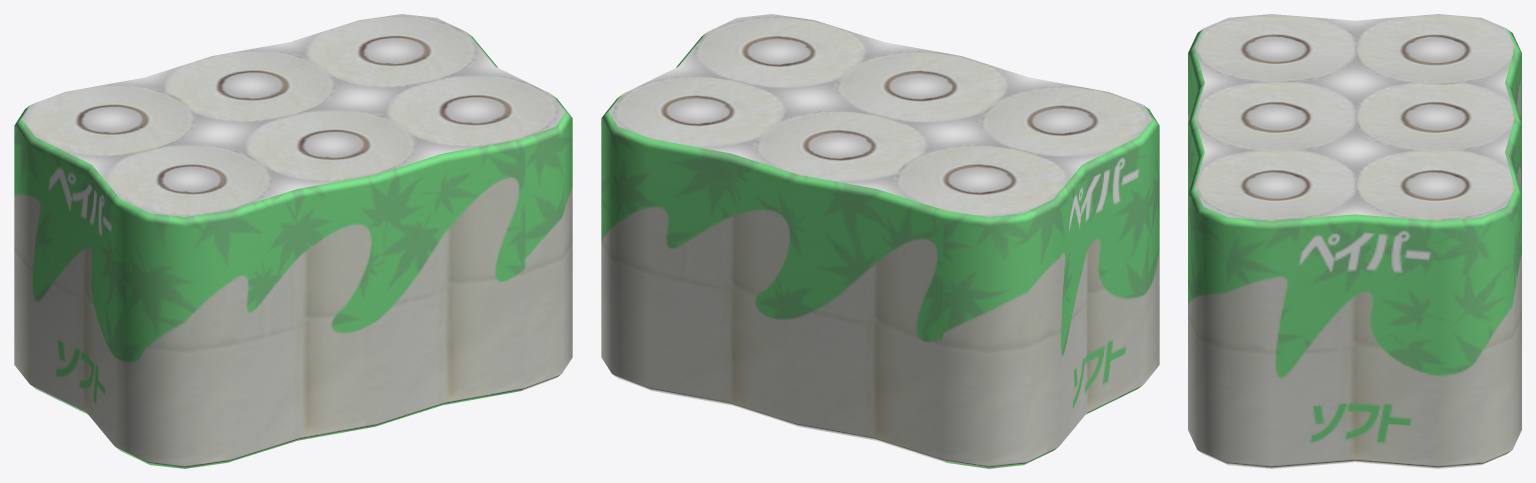
File: SM_ToiletpaperBag_01.fbx
3 views of the same model, side by side, from view 1: azimuth 30°, elevation 25°; view 2: azimuth 150°, elevation 25°; view 3: azimuth 270°, elevation 25° (orthographic).
Parts seen in each view (by area): view 1: SM_ToiletpaperBag_01_LOD0; view 2: SM_ToiletpaperBag_01_LOD0; view 3: SM_ToiletpaperBag_01_LOD0.
Part boxes in pixels (x1,y1,x2,y2): SM_ToiletpaperBag_01_LOD0: (14, 14, 572, 468); SM_ToiletpaperBag_01_LOD0: (601, 14, 1159, 468); SM_ToiletpaperBag_01_LOD0: (1188, 14, 1521, 468).
Bounding box in the file's own units: 36.8 × 24.4 × 20.
